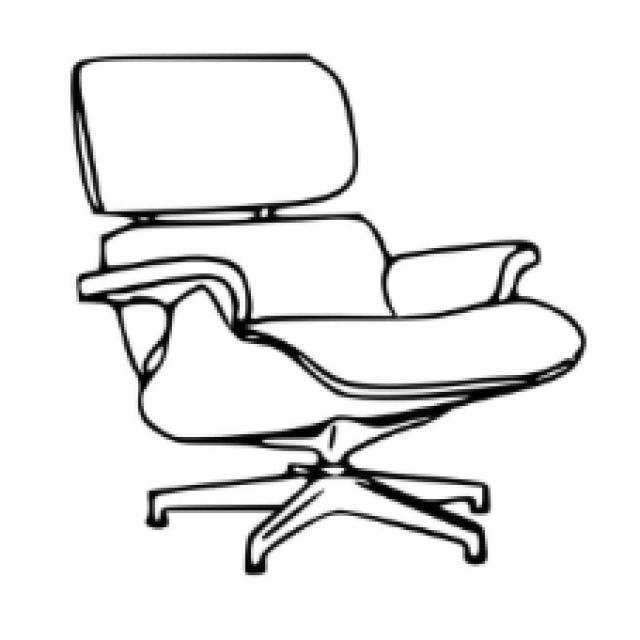Backrest: (92, 207, 397, 385)
Eames_base: (140, 456, 500, 588)
Eames_lounge: (382, 239, 547, 320), (73, 255, 254, 326)
Headrest: (72, 46, 364, 221)
Seat: (138, 288, 587, 444)
